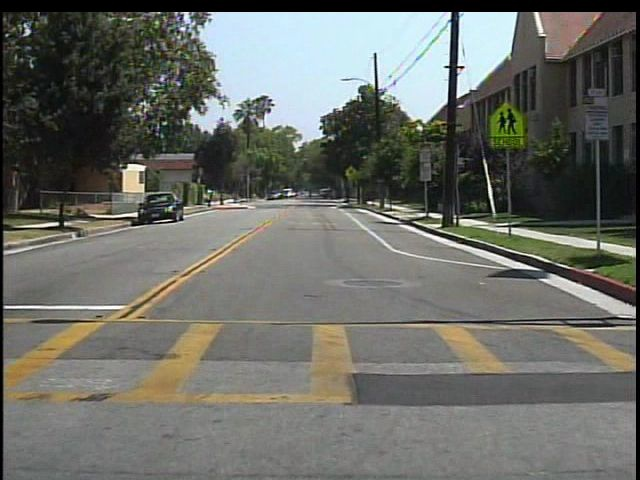person: (304, 186, 318, 204)
